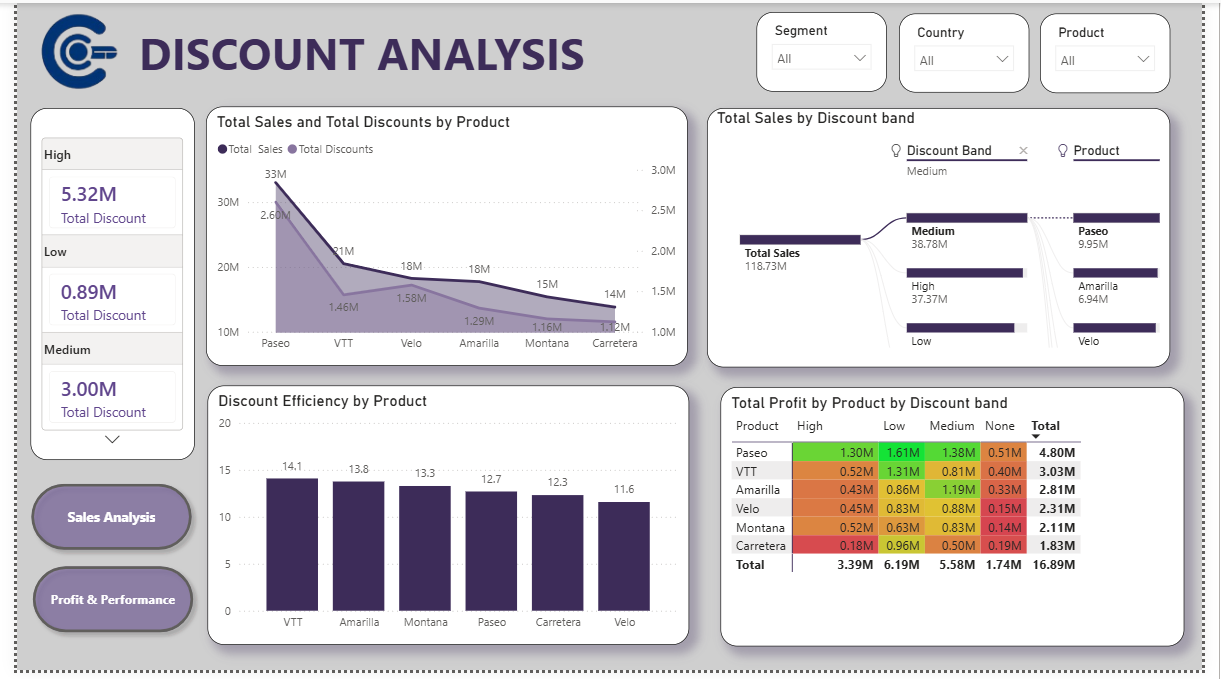

The page's visual inventory and layout, read from the dashboard file:
{"tool":"powerbi","page":{"name":"Discount","canvas":[1280,720],"ordinal":2},"visuals":[{"type":"textbox","box":[113.3,14.6,858.2,98.8],"z":0},{"type":"areaChart","fields":{"Y":["Sum(Fact. Sales)"],"Category":["Fact.Product"],"Y2":["Sum(Fact.Discounts)"]},"box":[204,111.7,519.8,280.1],"z":1000},{"type":"columnChart","fields":{"Category":["Fact.Product"],"Y":["Fact.Discount Efficiency"]},"box":[205.6,412.9,519.8,280.1],"z":2000},{"type":"decompositionTreeVisual","title":"Total Sales by Discount band","fields":{"Analyze":["Sum(Fact. Sales)"],"ExplainBy":["Fact.Discount Band","Fact.Product"]},"box":[744.8,113.3,500,280.1],"z":3000},{"type":"pivotTable","title":"Total Profit by Product by Discount band","fields":{"Rows":["Fact.Product"],"Columns":["Fact.Discount Band"],"Values":["Sum(Fact.Profit)"]},"box":[759.4,414.5,500.3,280.1],"z":4000},{"type":"slicer","fields":{"Values":["Fact.Segment"]},"box":[798.3,9.7,140.9,85.8],"z":5000},{"type":"slicer","fields":{"Values":["Fact.Country"]},"box":[952.1,11.3,140.9,85],"z":6000},{"type":"slicer","fields":{"Values":["Fact.Product"]},"box":[1104.3,11.3,140.9,85.8],"z":7000},{"type":"image","box":[6.5,8.1,121.4,90.7],"z":8000},{"type":"actionButton","box":[8.1,599.1,191.1,89.1],"z":9000},{"type":"actionButton","box":[6.5,510.1,191.1,89.1],"z":10000},{"type":"cardVisual","fields":{"Data":["Fact.Total Discount1"],"Rows":["Fact.Discount Band"]},"box":[14.6,113.3,177,380],"z":11000}]}

Visuals, with their boxes in screenshot pixels (x1, y1, x2, y2), scaled from the page's 1280x720 canvas onto the 1221x679 screenshot:
textbox: detection(108, 14, 927, 107)
areaChart - Sum(Fact. Sales) x Fact.Product: detection(195, 105, 690, 369)
columnChart - Fact.Product x Fact.Discount Efficiency: detection(196, 389, 692, 654)
"Total Sales by Discount band" decompositionTreeVisual: detection(710, 107, 1187, 371)
"Total Profit by Product by Discount band" pivotTable: detection(724, 391, 1202, 655)
slicer - Fact.Segment: detection(762, 9, 896, 90)
slicer - Fact.Country: detection(908, 11, 1043, 91)
slicer - Fact.Product: detection(1053, 11, 1188, 92)
image: detection(6, 8, 122, 93)
actionButton: detection(8, 565, 190, 649)
actionButton: detection(6, 481, 188, 565)
cardVisual - Fact.Total Discount1 x Fact.Discount Band: detection(14, 107, 183, 465)
